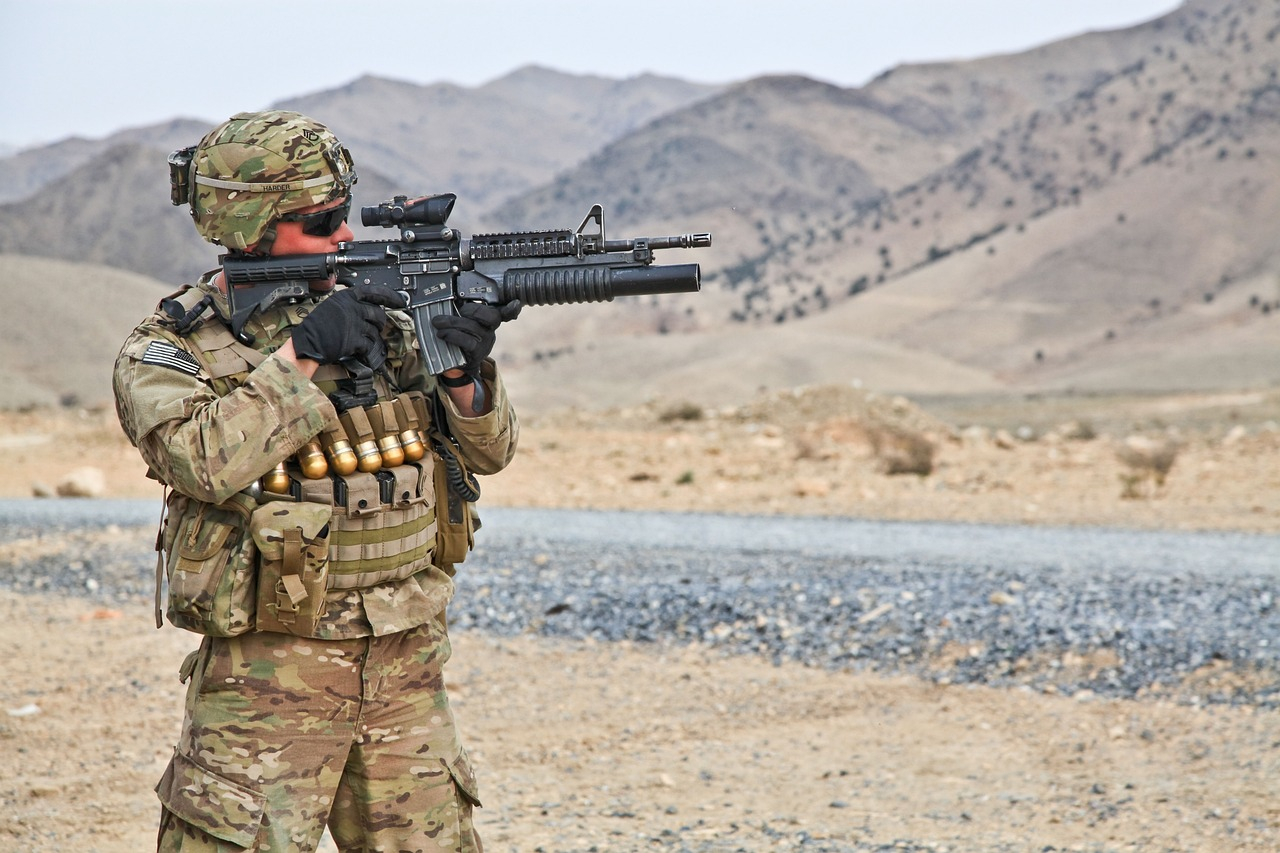gun: (216, 185, 717, 381)
